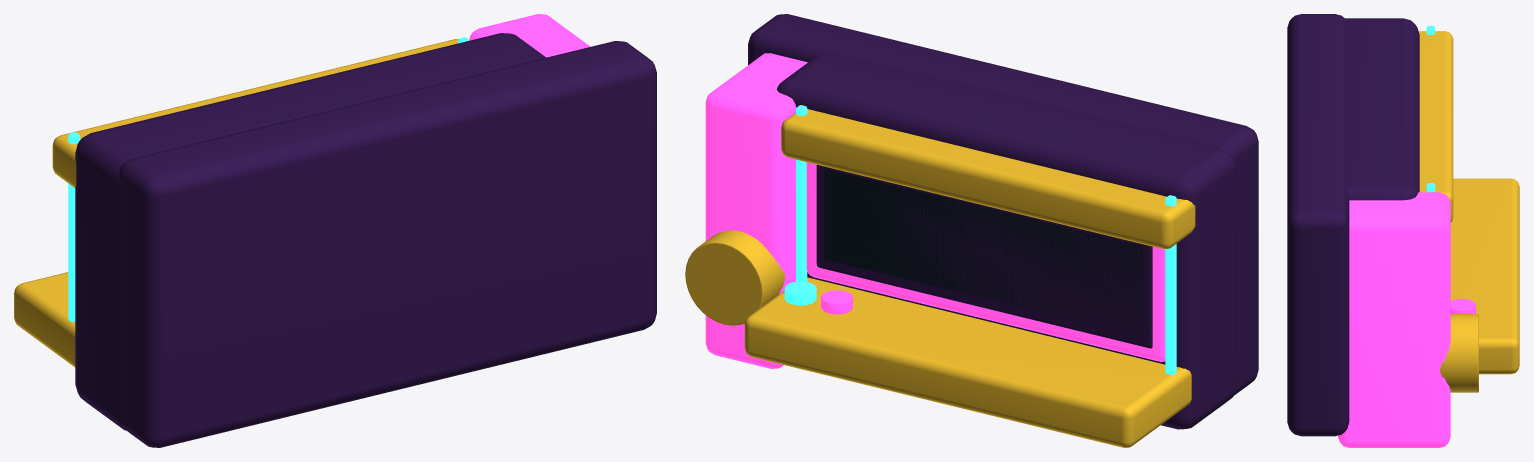
File: SM_AlphaArcade_Body.fbx
The picture shows the model from 3 angles, left to right: view 1: azimuth 30°, elevation 25°; view 2: azimuth 150°, elevation 25°; view 3: azimuth 270°, elevation 25°; orthographic projection. The views are drawn at different scales.
Visible parts, largest first — view 1: SM_AlphaArcade_Body; view 2: SM_AlphaArcade_Body; view 3: SM_AlphaArcade_Body.
Boxes of the visible parts, bbox=[...] form: SM_AlphaArcade_Body: bbox=[14, 14, 656, 447]; SM_AlphaArcade_Body: bbox=[685, 14, 1258, 447]; SM_AlphaArcade_Body: bbox=[1287, 14, 1519, 447].
Bounding box in the file's own units: 175 × 82.5 × 95.
